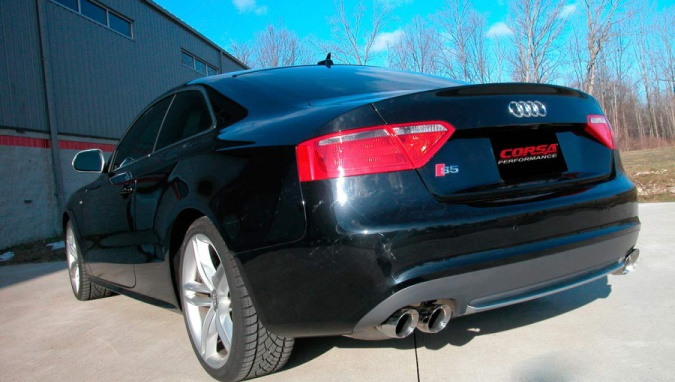audi: (495, 95, 551, 122)
